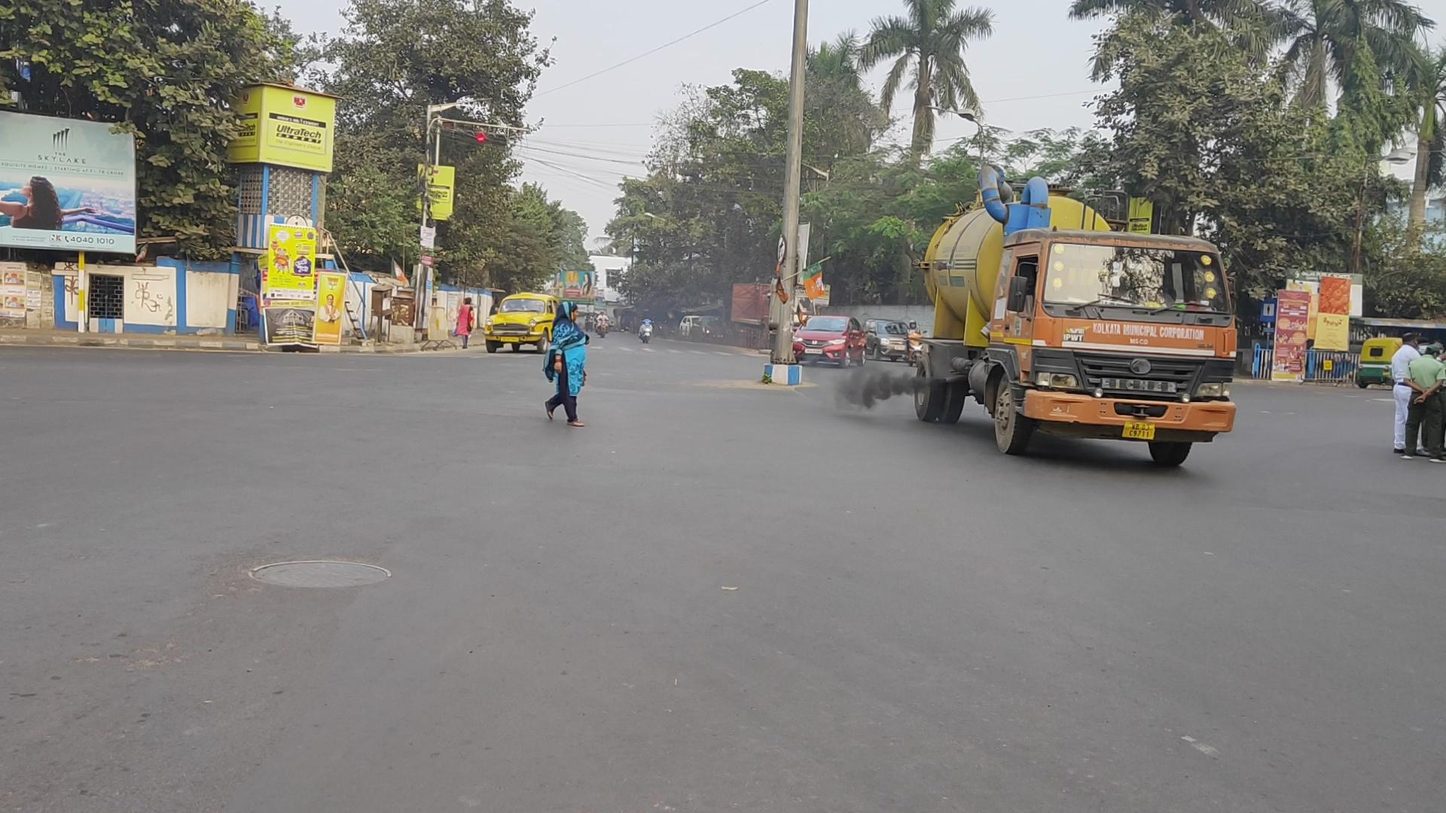Auto: (1356, 336, 1417, 387)
bike: (907, 320, 928, 367), (636, 314, 654, 345)
car: (485, 291, 568, 352), (794, 315, 866, 367), (861, 318, 911, 362), (676, 314, 713, 339)
truck: (914, 166, 1236, 469), (729, 284, 817, 352)
